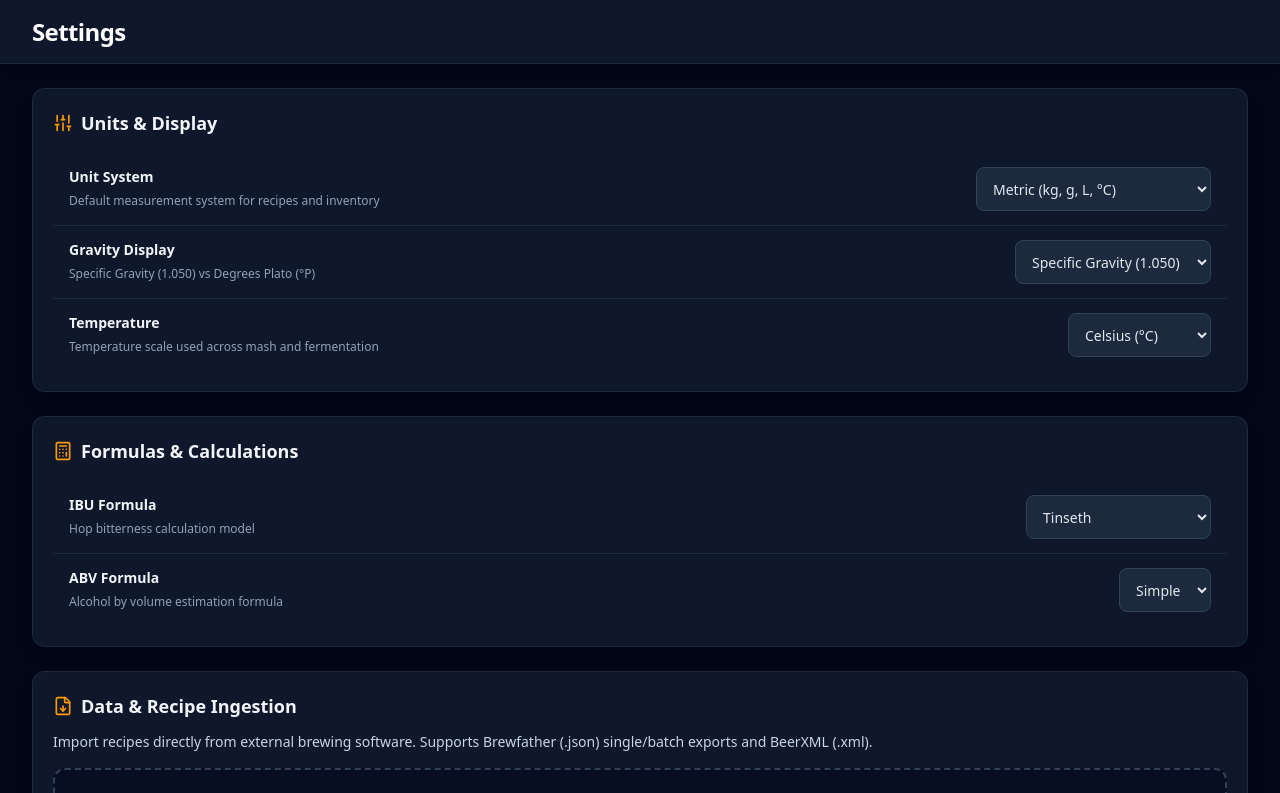
Test case: AC-27: Garetz is labeled as approximate at the point of selection › a visible caveat note renders only when garetz is the selected value, and the persisted enum value is unaffected
The image size is (1280, 793).
Select "Garetz (approximate)" in the dropdown with test id "settings-select-ibuFormula" at (1118, 517), box [1026,495,1211,539]
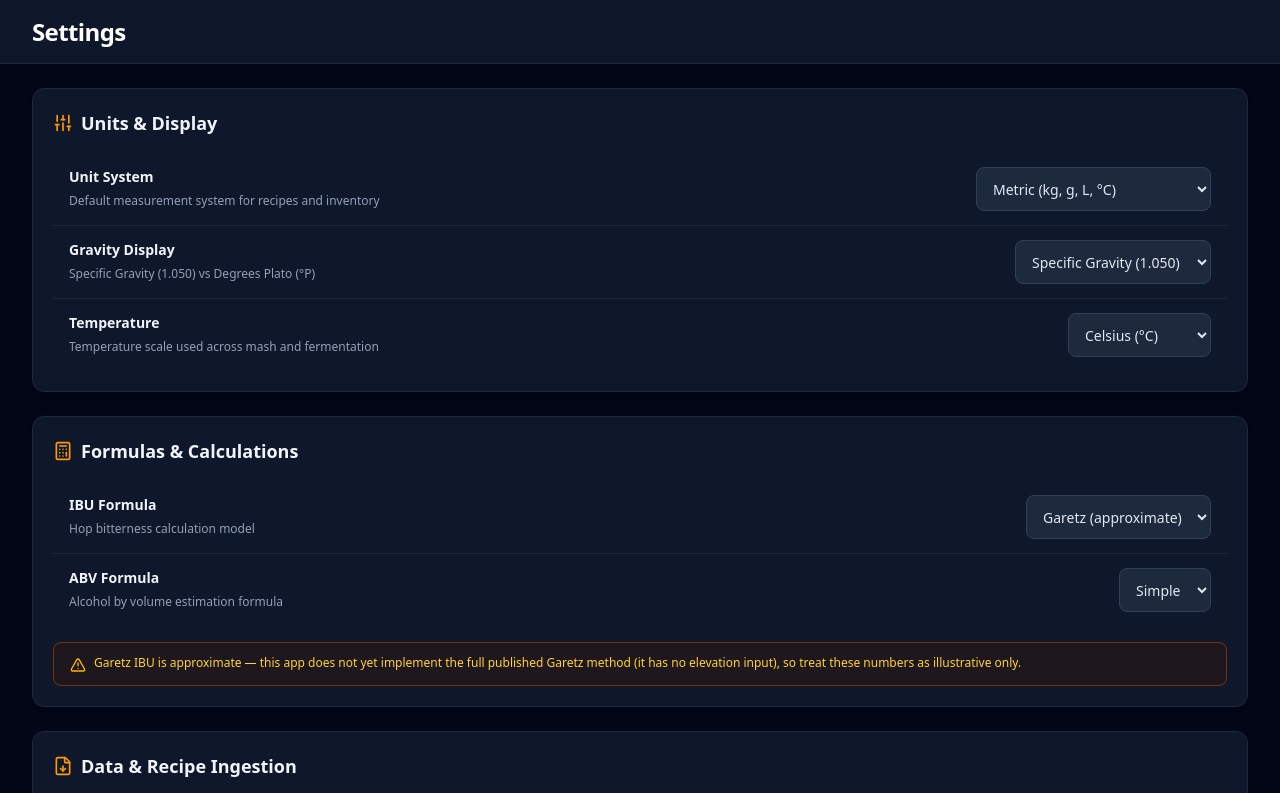
Result: the element with test id "garetz-approximation-note" is shown at [53,642,1227,686]
